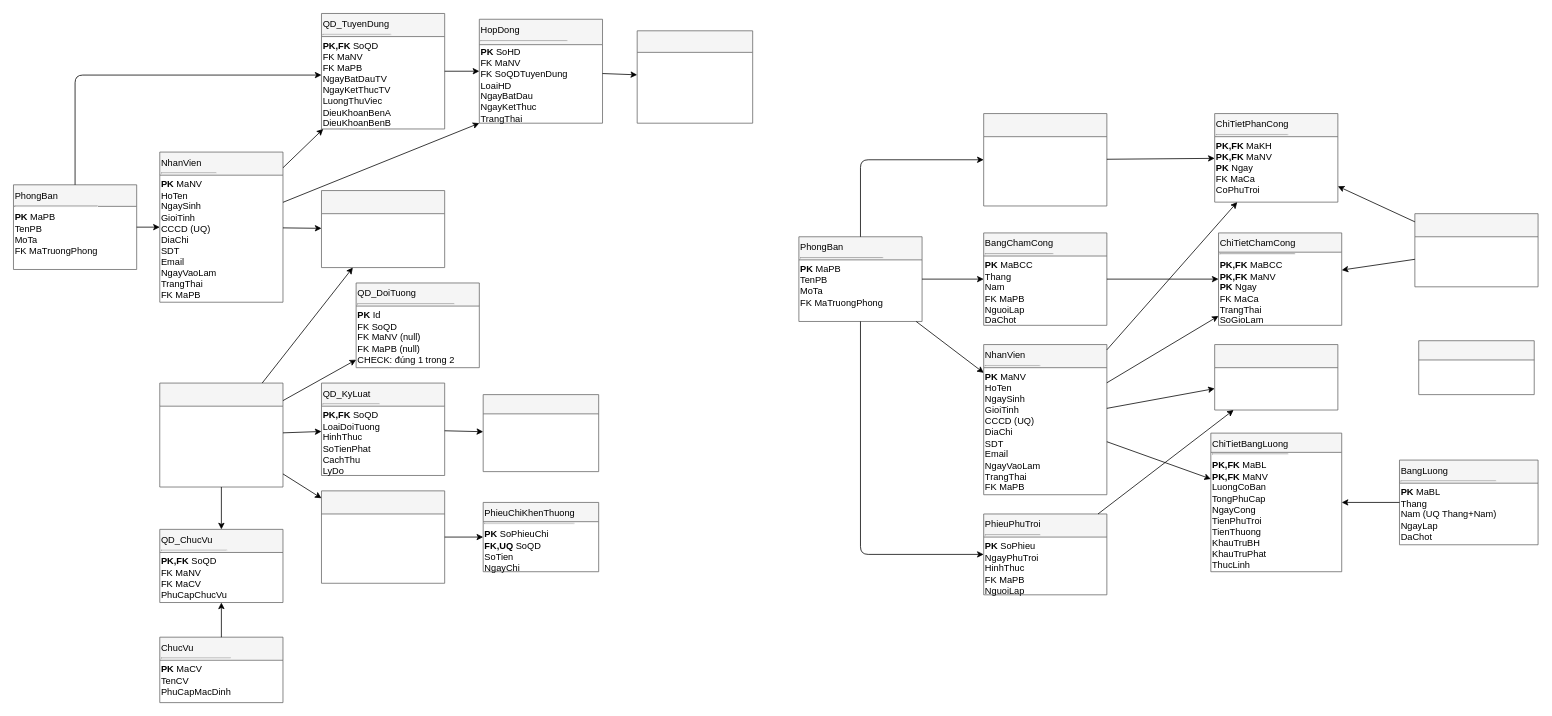
Image size: 1552x716. Some labels were removed from this diagram. Here are the shapes that lost their labels. From the top down, the centre of each, then its label:
At point (694, 76): "HoSoBaoHiem PK MaHSBH FK,UQ SoHD SoBHYT SoBHXH NgayThamGia MucDong".
At point (1045, 159): "KeHoachTuan PK MaKH FK MaPB TuNgay DenNgay NguoiLap TrangThai".
At point (383, 229): "QD_Luong PK,FK SoQD FK MaNV LuongCoBan PhuCapLuong PhuCapDocHai".
At point (1476, 250): "CaLamViec PK MaCa TenCa GioBatDau GioKetThuc".
At point (1276, 377): "ChiTietPhuTroi PK,FK SoPhieu PK,FK MaNV SoGioPhuTroi".
At point (1476, 367): "ThamSo PK MaThamSo GiaTri".
At point (221, 434): "QuyetDinh PK SoQD LoaiQD NgayLap NgayHieuLuc NguoiKy NoiDung TrangThai".
At point (540, 433): "PhieuThuNopPhat PK SoPhieuThu FK,UQ SoQD SoTien NgayThu HinhThuc".
At point (383, 536): "QD_KhenThuong PK,FK SoQD LoaiDoiTuong LoaiKhenThuong HinhThuc SoTien LyDo".
